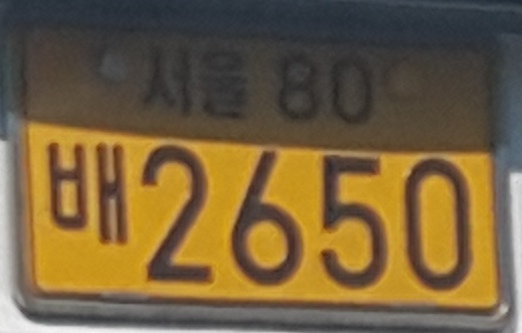0: (399, 155, 475, 292), (329, 53, 374, 126)
2: (140, 143, 217, 287)
5: (319, 153, 390, 292)
6: (226, 148, 306, 290)
8: (274, 51, 322, 121)
배: (46, 139, 130, 246)
서울_H: (141, 45, 255, 121)
